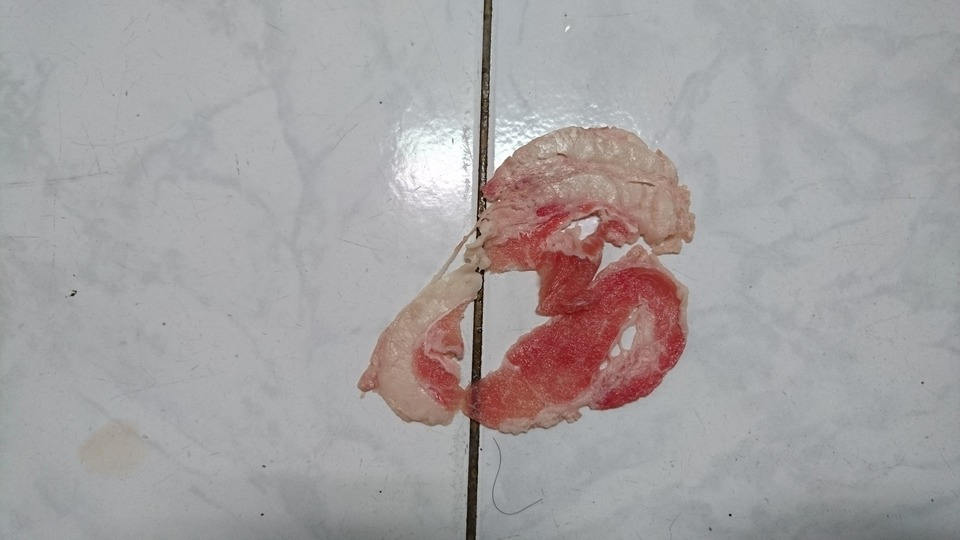restructured meat: (356, 128, 689, 440)
